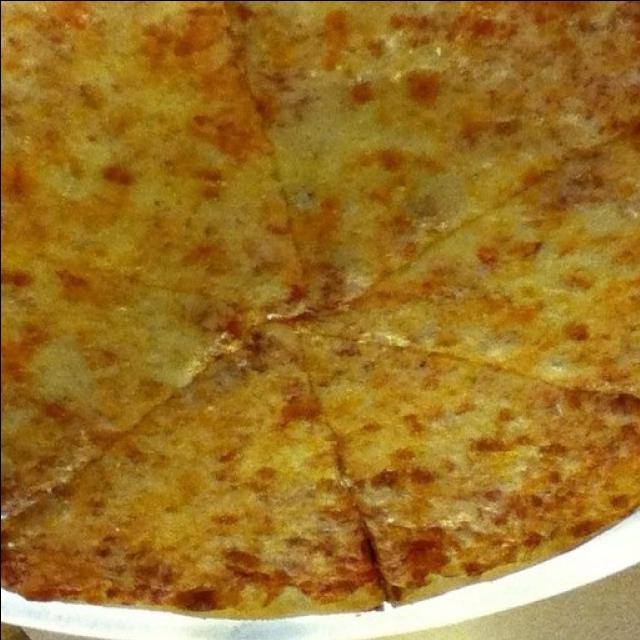pizza: (0, 0, 639, 621)
